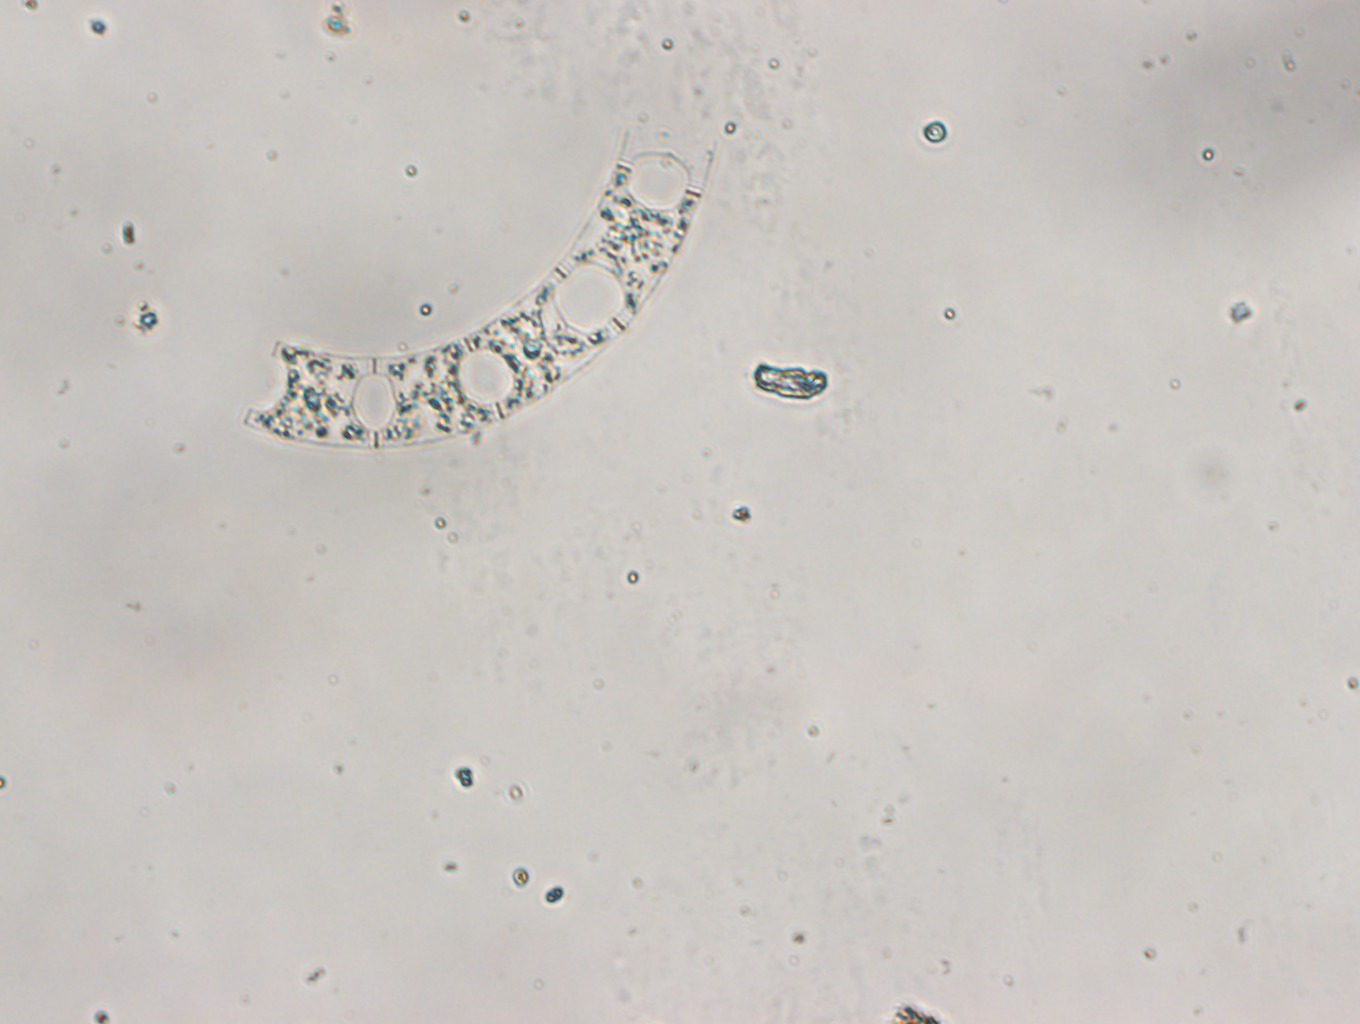eucampia: (245, 132, 717, 449)
